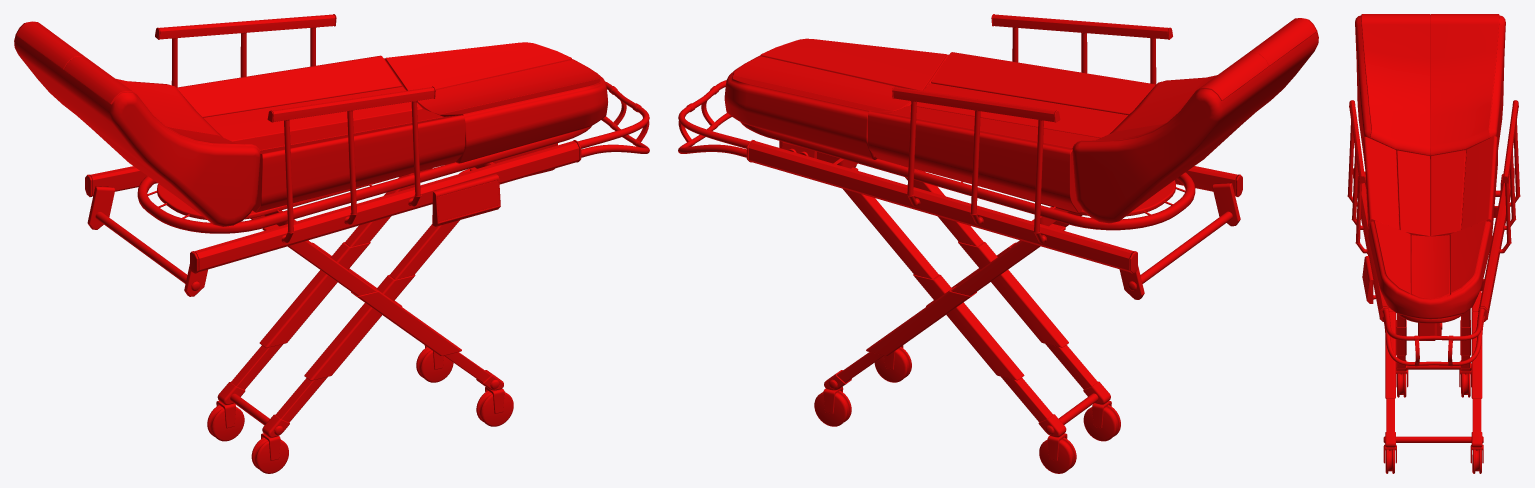
File: Equipment_16.fbx
3 renders of one model, left to right at view 1: azimuth 30°, elevation 25°; view 2: azimuth 150°, elevation 25°; view 3: azimuth 270°, elevation 25°, orthographic. The views are drawn at different scales.
Visible parts, largest first — view 1: L1:polySurface1013; view 2: L1:polySurface1013; view 3: L1:polySurface1013.
Boxes of the visible parts, x1,y1,x2,y2 form: L1:polySurface1013: (14, 14, 649, 473); L1:polySurface1013: (678, 14, 1318, 473); L1:polySurface1013: (1347, 14, 1520, 473).
Bounding box in the file's own units: 206 × 151 × 74.01.
